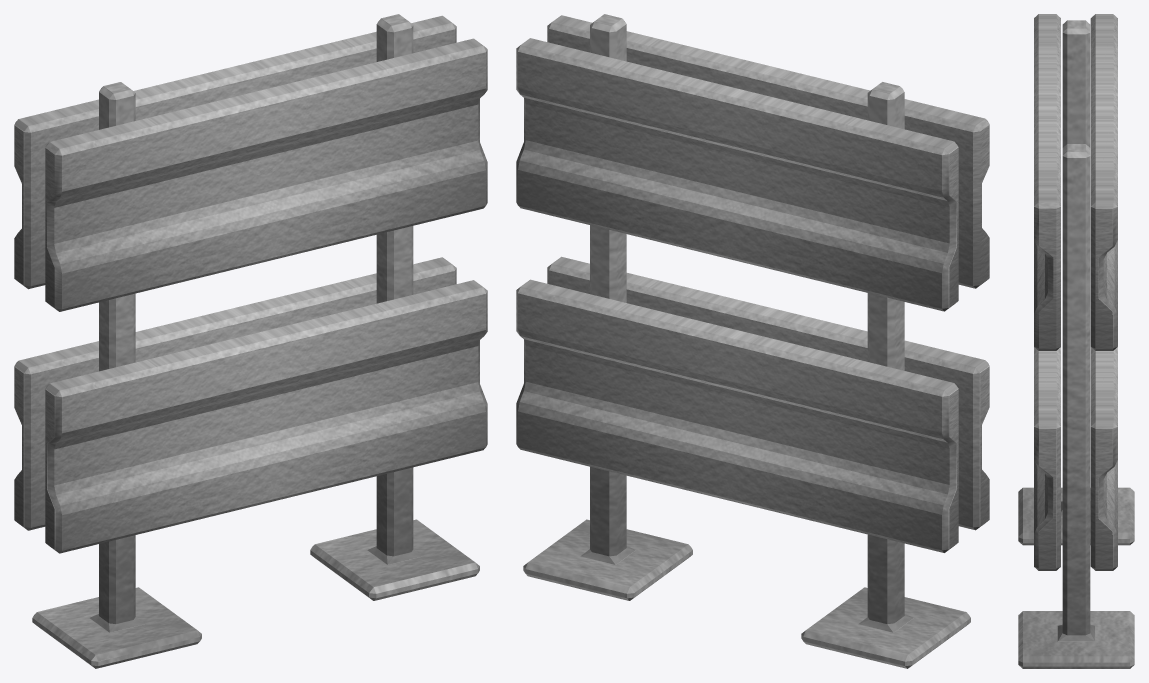
File: Barrier_Short_Metal.fbx
The picture shows the model from 3 angles, left to right: view 1: azimuth 30°, elevation 25°; view 2: azimuth 150°, elevation 25°; view 3: azimuth 270°, elevation 25°; orthographic projection. The views are drawn at different scales.
Parts seen in each view (by area): view 1: Barrier_Short_Metal; view 2: Barrier_Short_Metal; view 3: Barrier_Short_Metal.
Boxes of the visible parts, left/top/right/bottom form: Barrier_Short_Metal: left=14, top=14, right=487, bottom=668; Barrier_Short_Metal: left=516, top=14, right=989, bottom=668; Barrier_Short_Metal: left=1018, top=14, right=1134, bottom=668.
Bounding box in the file's own units: 48.1 × 58.1 × 12.31.
1 material, 1 textured.
